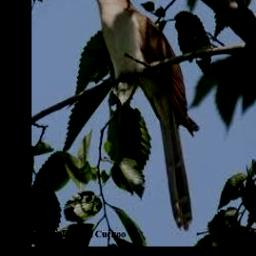Cuckoo: (81, 0, 199, 230)
